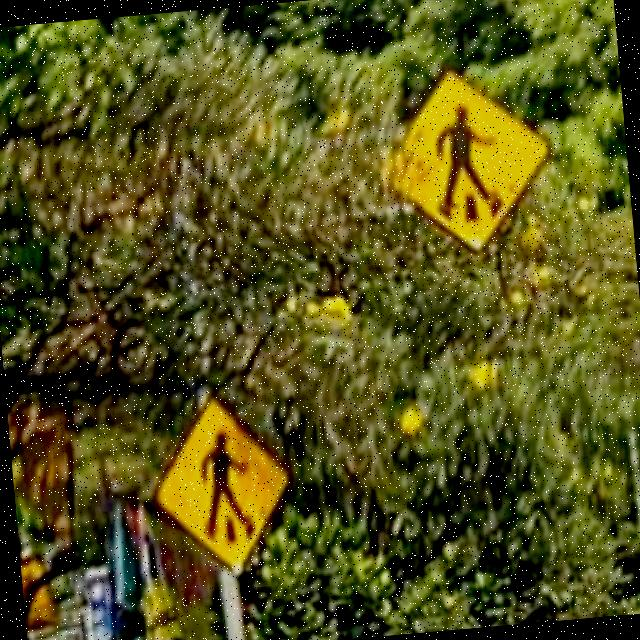Przejscie dla pieszych: (422, 64, 564, 254), (149, 396, 295, 578)
